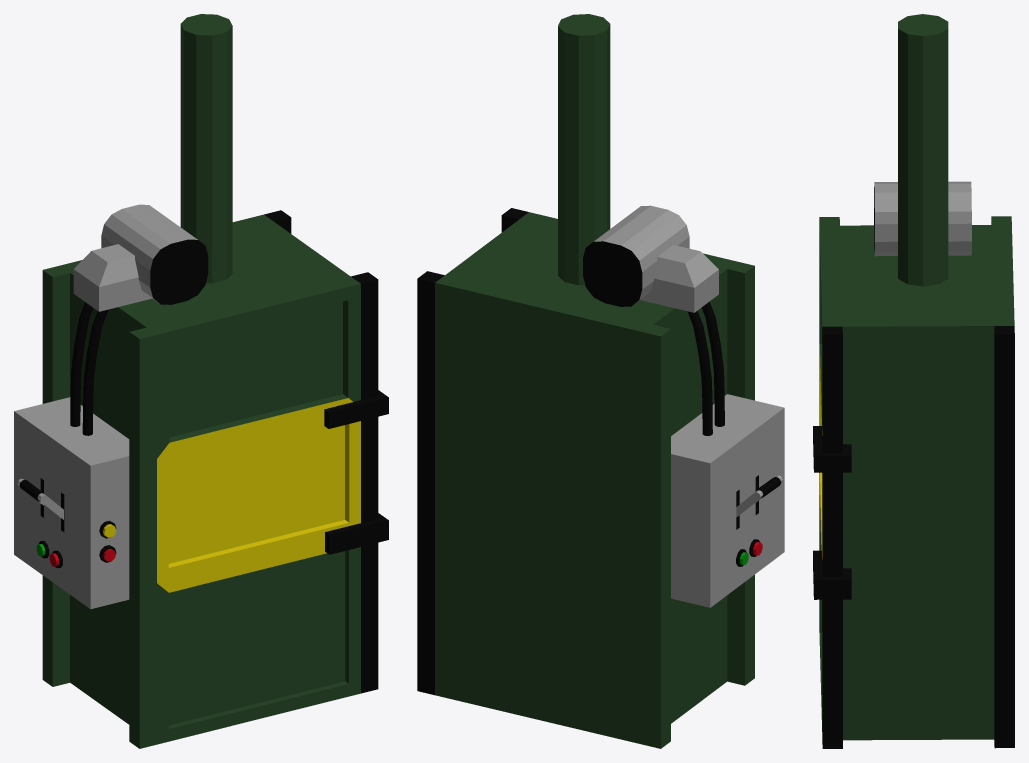
The model's file is MESH_PROP_Compressor_Pequeno.fbx.
3 renders of one model, left to right at view 1: azimuth 30°, elevation 25°; view 2: azimuth 150°, elevation 25°; view 3: azimuth 270°, elevation 25°, orthographic.
Visible parts, largest first — view 1: Cube.006; view 2: Cube.006; view 3: Cube.006.
Boxes of the visible parts, x1,y1,x2,y2 form: Cube.006: (14, 14, 388, 748); Cube.006: (417, 14, 784, 748); Cube.006: (813, 14, 1014, 748).
Bounding box in the file's own units: 235 × 475 × 131.
